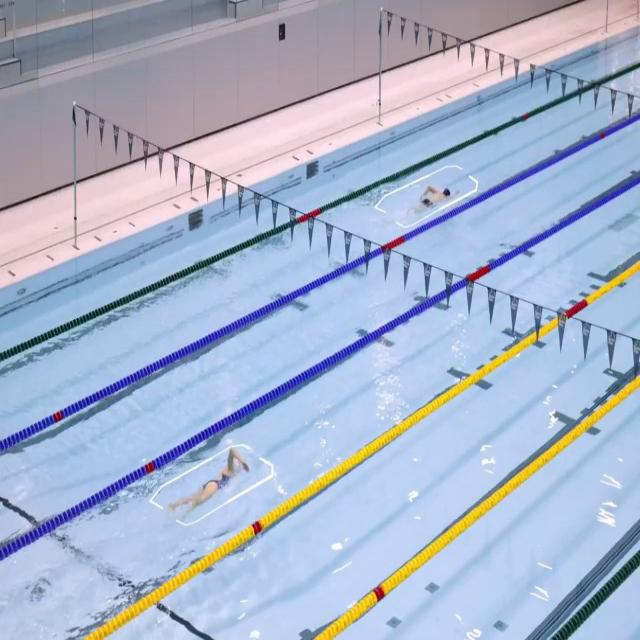Swimming: (168, 449, 250, 523), (406, 185, 460, 216)
